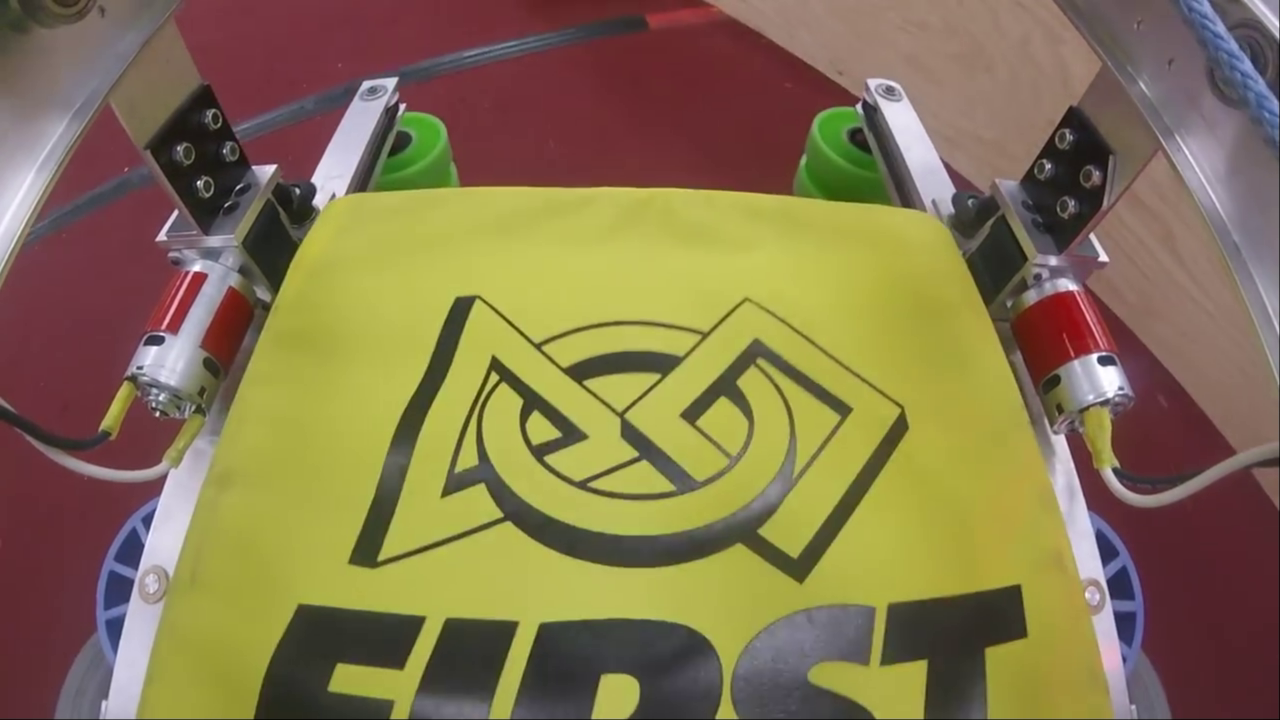cube: (133, 188, 1120, 720)
